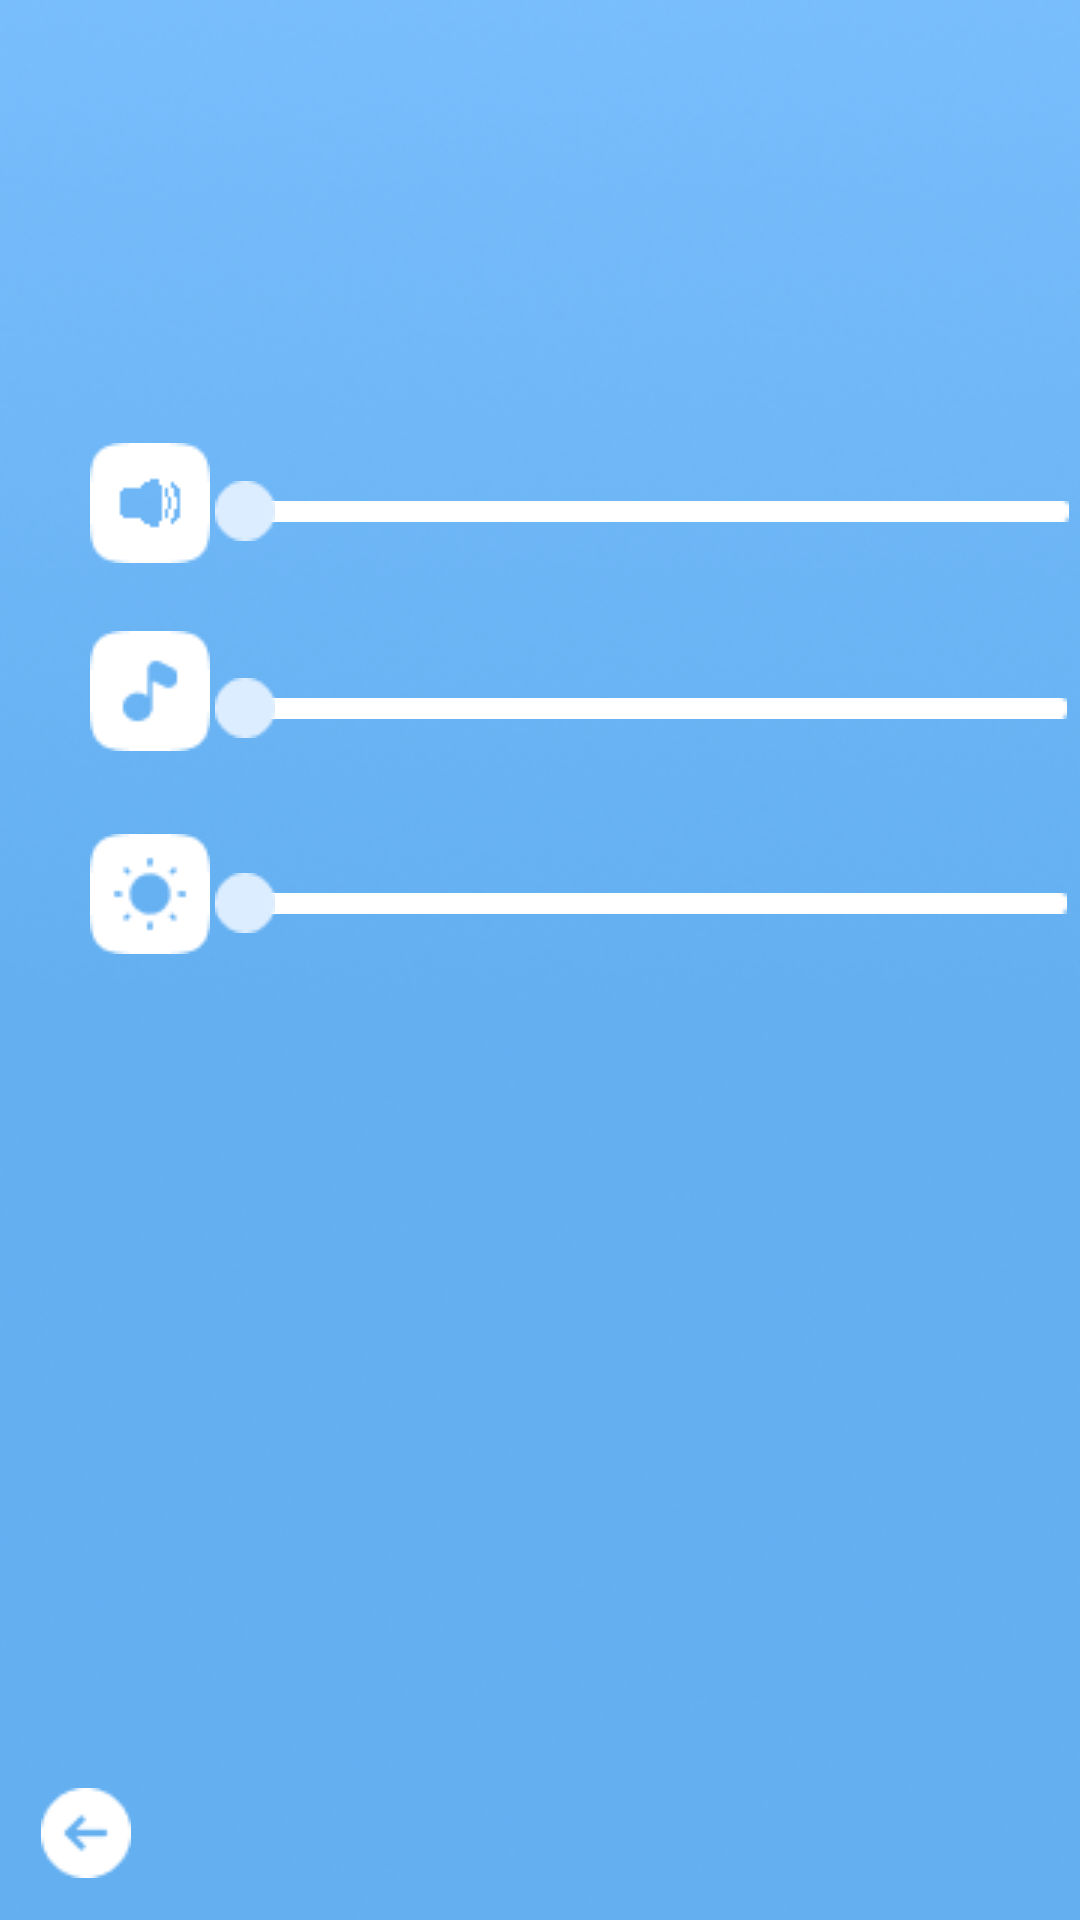

Icons on this 1080px x 1920px Android screen, each with the point to tap as (x,y):
back: (86,1833)
brightness: (150,894)
volume: (150,503)
